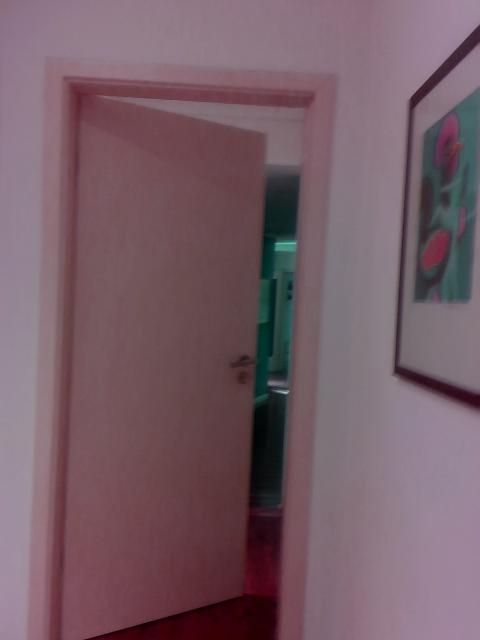semi_door: (23, 57, 338, 639)
